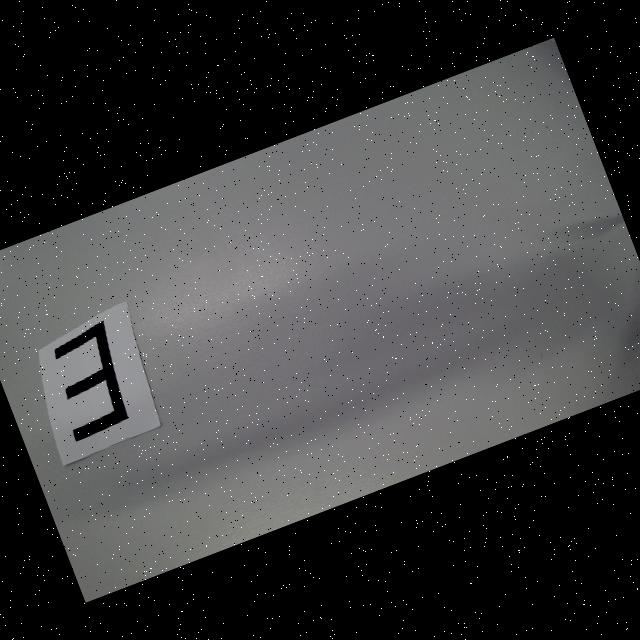FAKE: (39, 320, 142, 442)
